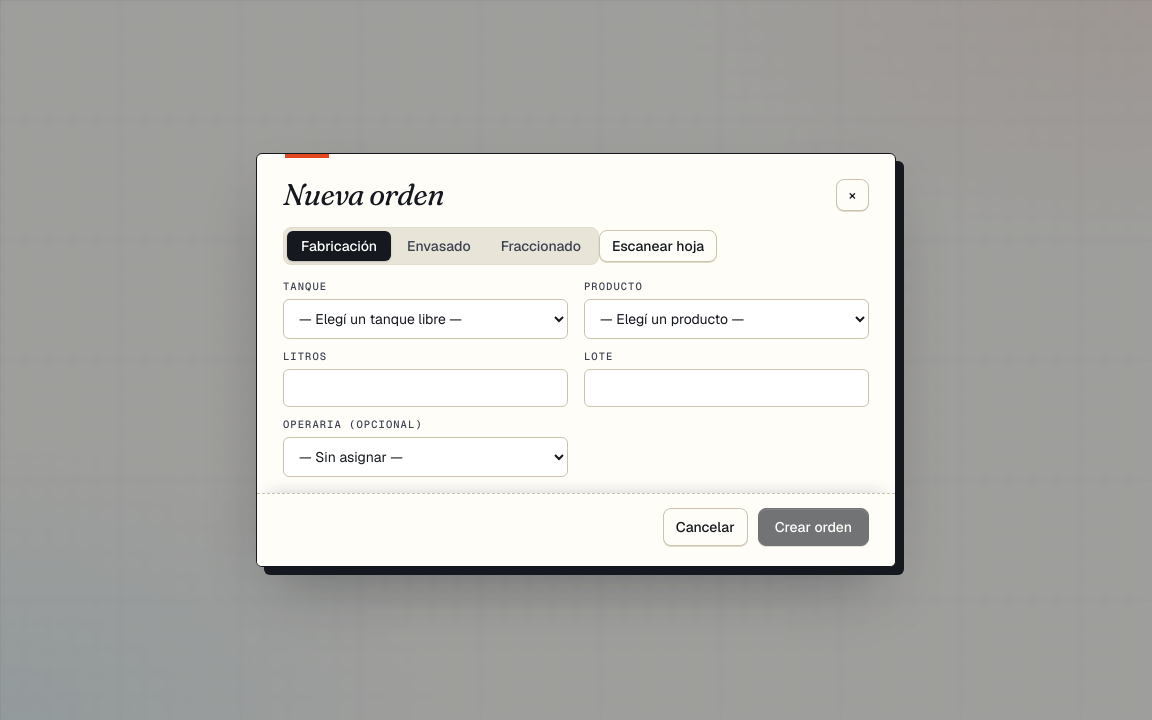
Test: NuevaOrden · fabricación › no deja pasar la capacidad del tanque
This screenshot has width=1152, height=720.
Select "T-01 · 2000 L" in the dropdown labelled "Tanque" at coordinates (426, 319), box top-left (283, 299), bottom-right (568, 339)
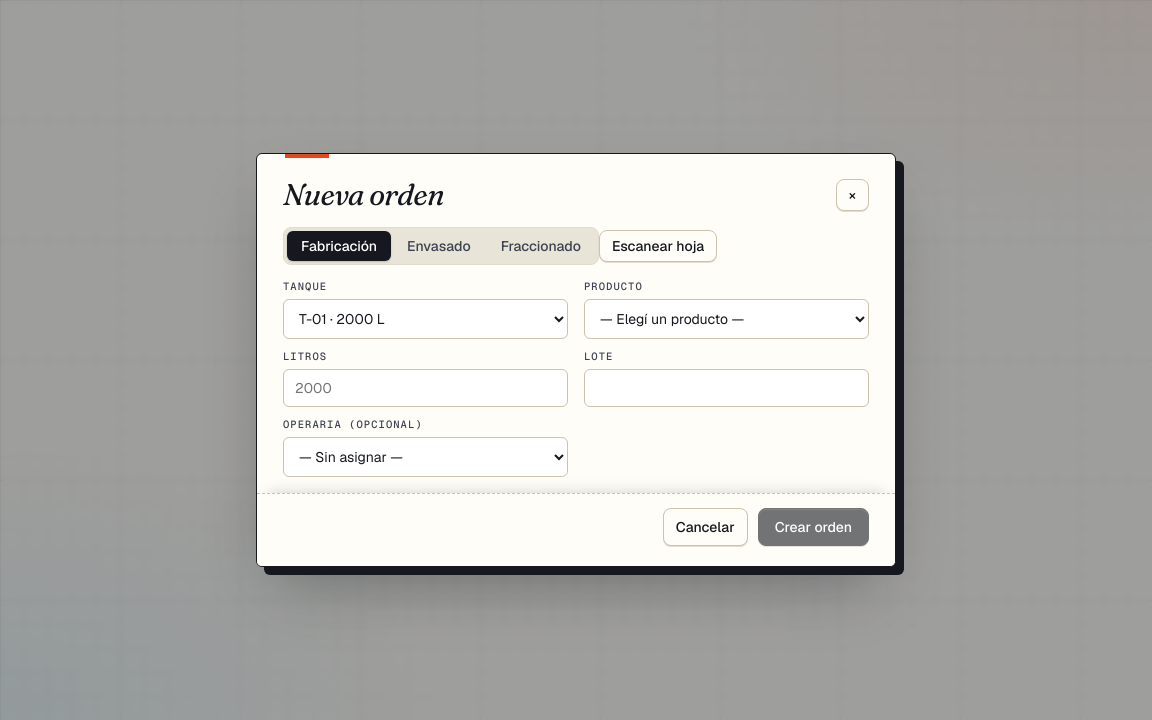
Select "Lavandina" in the dropdown labelled "Producto" at coordinates (726, 319), box top-left (584, 299), bottom-right (869, 339)
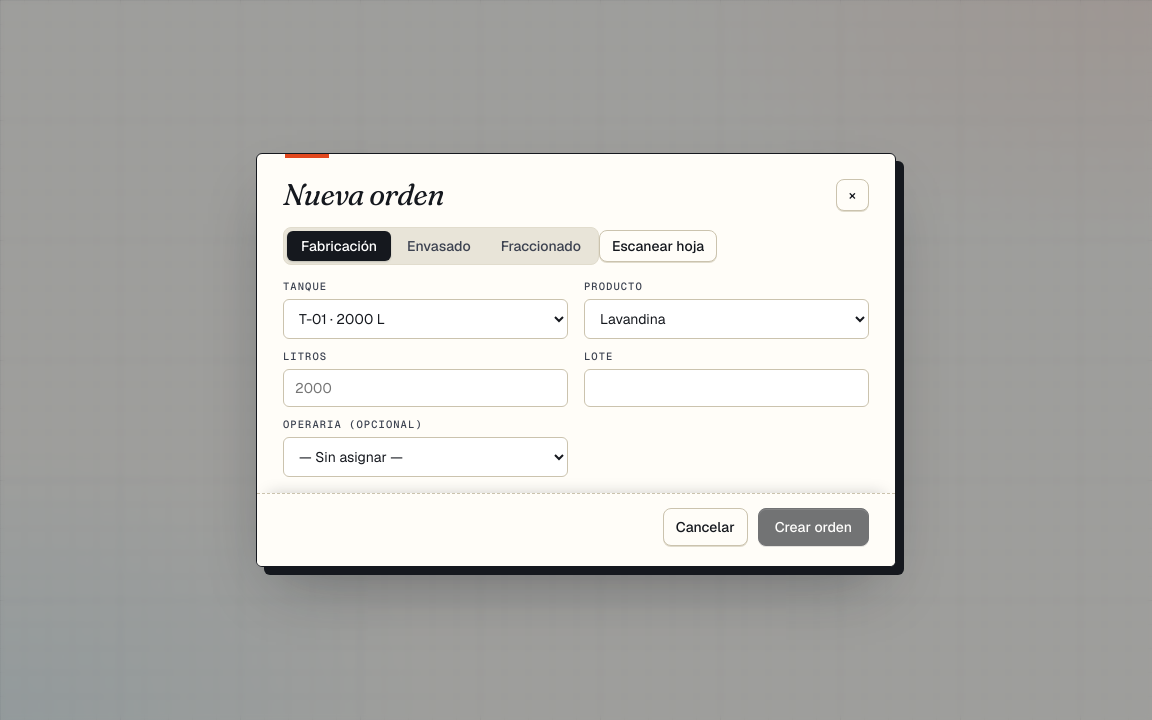
Type "2500" into the number field labelled "Litros".
click(426, 388); type("2500")  # box top-left (283, 369), bottom-right (568, 407)
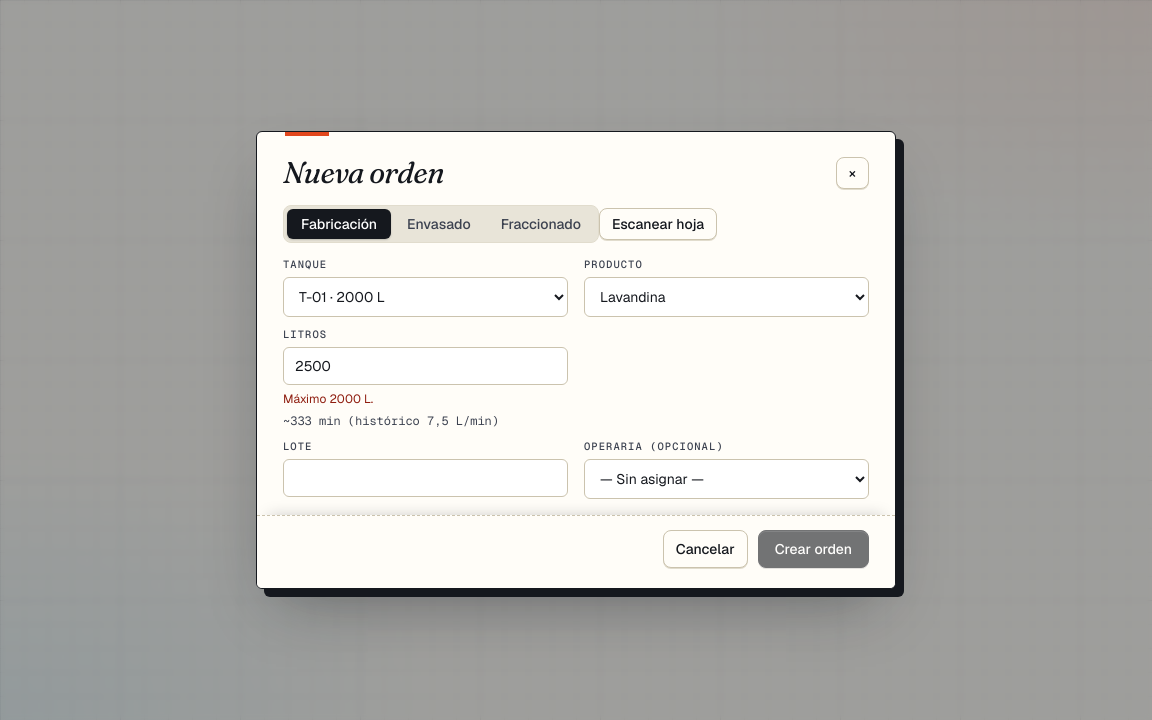
Expected: the button "Crear orden" is disabled, top-left (758, 530), bottom-right (869, 568)
Expected: the text "Máximo 2000 L." is shown, top-left (283, 391), bottom-right (373, 407)
